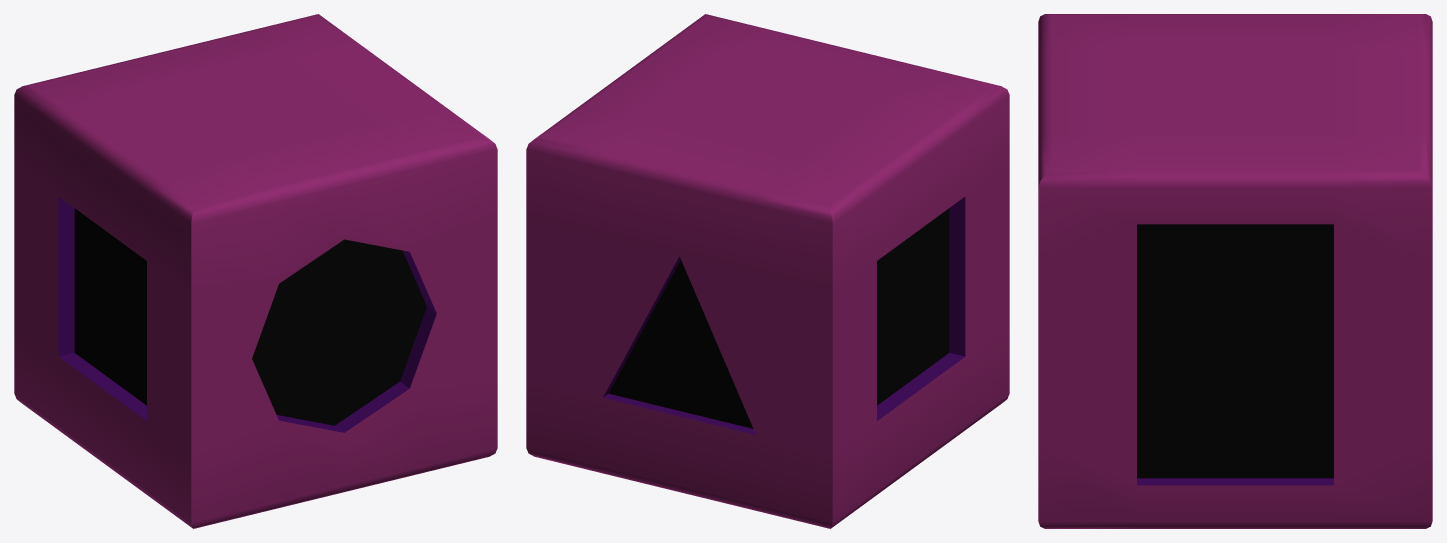
Rendered from (p) Purple Shape block.fbx.
3 renders of one model, left to right at view 1: azimuth 30°, elevation 25°; view 2: azimuth 150°, elevation 25°; view 3: azimuth 270°, elevation 25°, orthographic. The views are drawn at different scales.
Visible parts, largest first — view 1: Shape block Pruple; view 2: Shape block Pruple; view 3: Shape block Pruple.
Part boxes in pixels (x1,y1,x2,y2): Shape block Pruple: [14, 14, 497, 528]; Shape block Pruple: [526, 14, 1009, 528]; Shape block Pruple: [1038, 14, 1432, 528].
Size of the model in its own units: 296 by 296 by 296.
